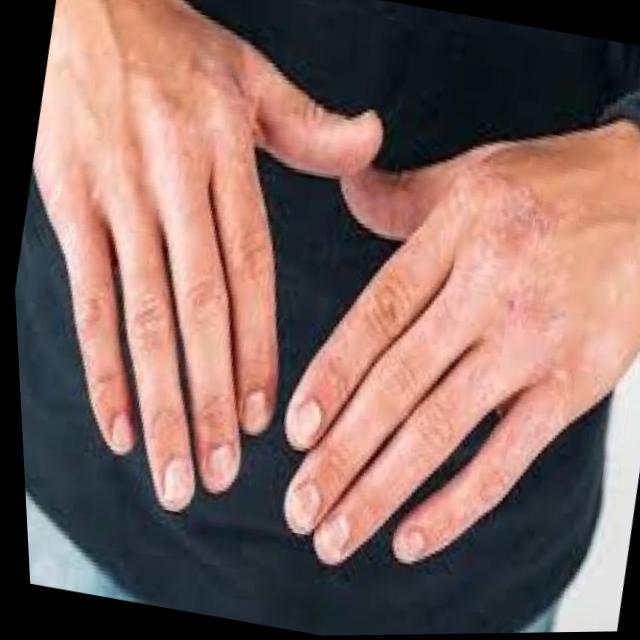Eczema: (252, 134, 640, 569)
